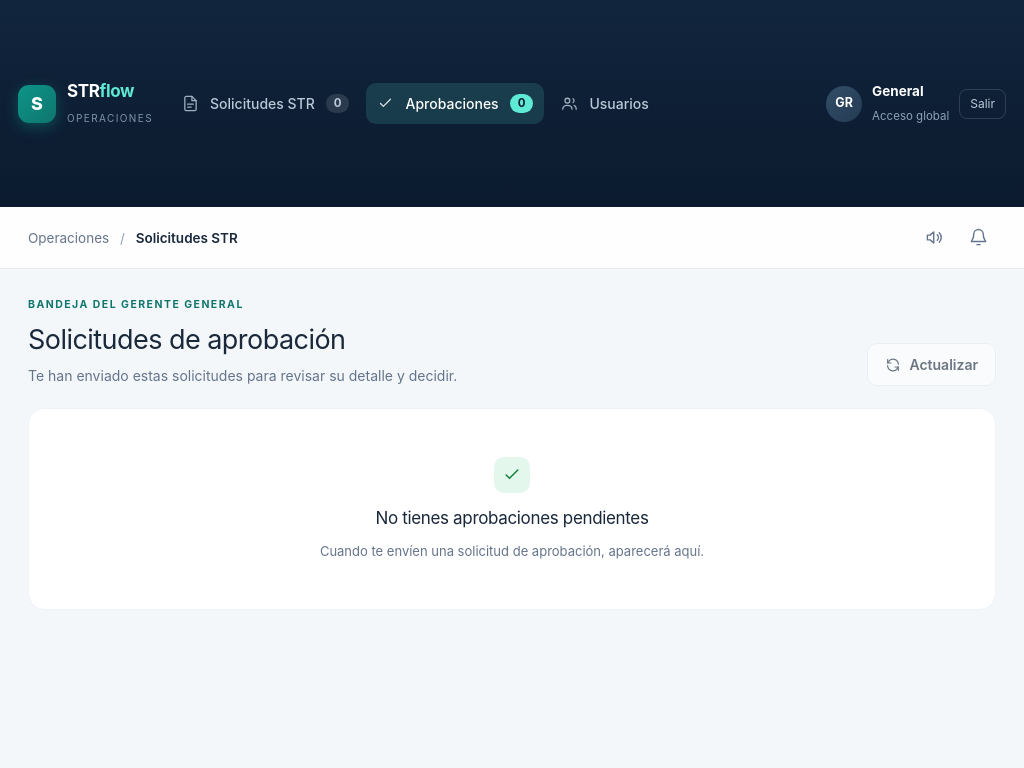
Test: aviso prioritario a pantalla completa › se cierra con Entendido y queda en el historial
Step 1. Click the link "Solicitudes STR 0" → coordinates (266, 104), box 182,94 -> 349,113
Wait 12200 ms
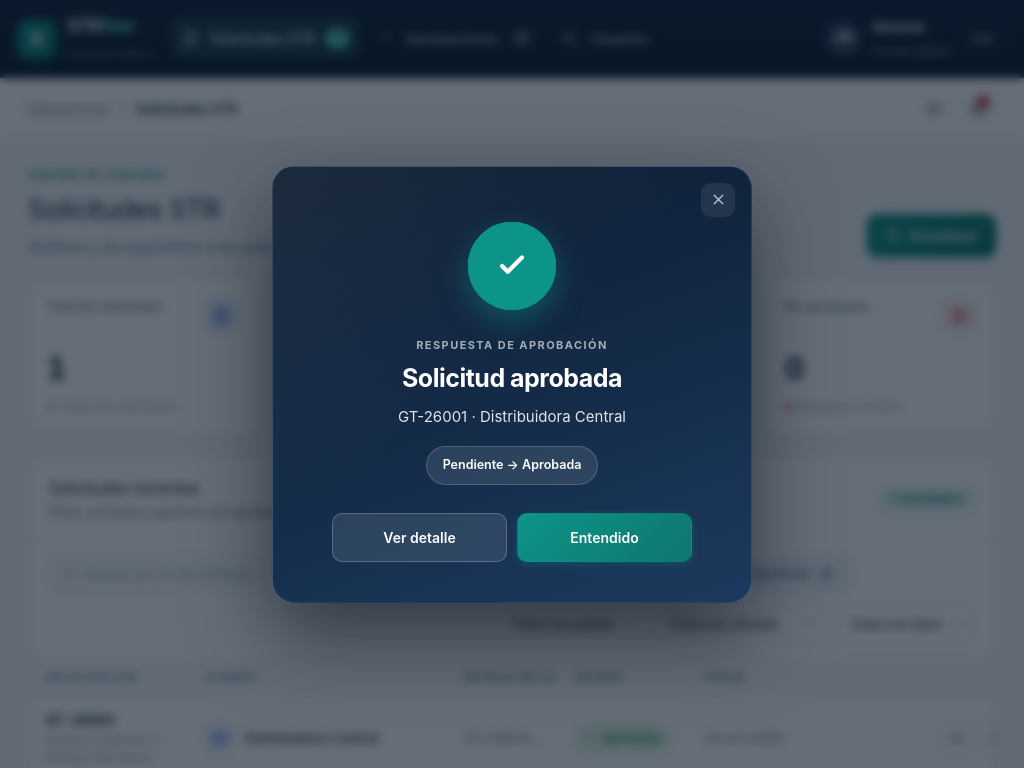
Step 2. Click the button "Entendido" → coordinates (604, 537), box 517,512 -> 692,562
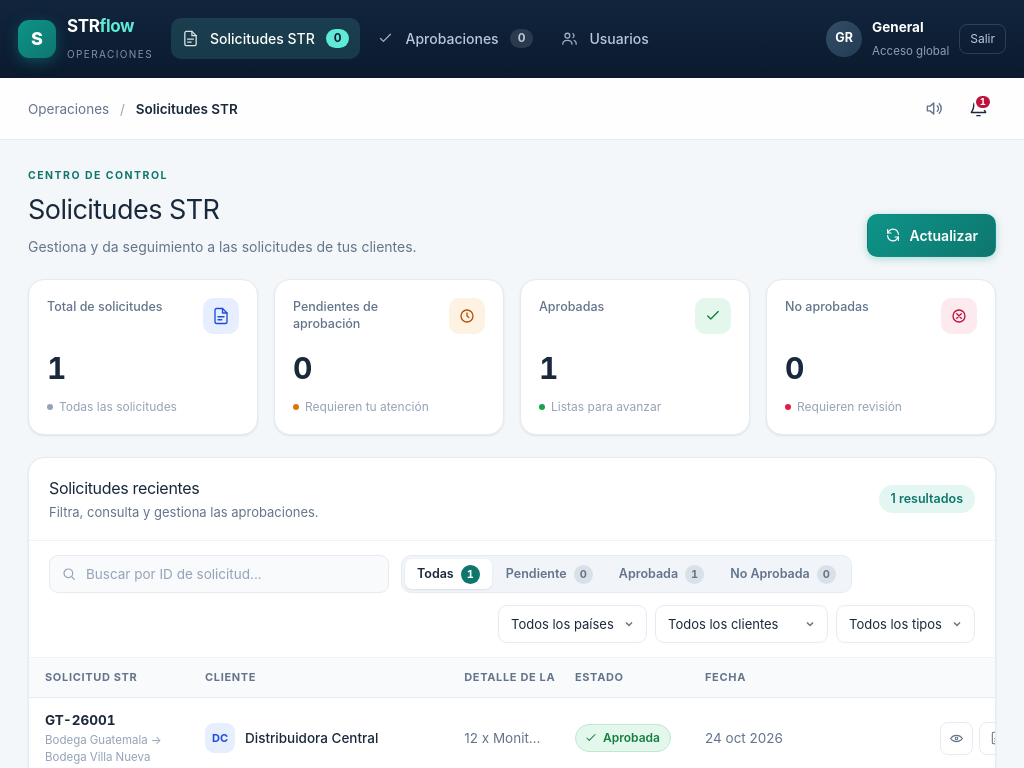
Check: the dialog is gone
Step 3. Click the button named "1 notificaciones sin leer" → coordinates (978, 108), box 960,90 -> 996,126
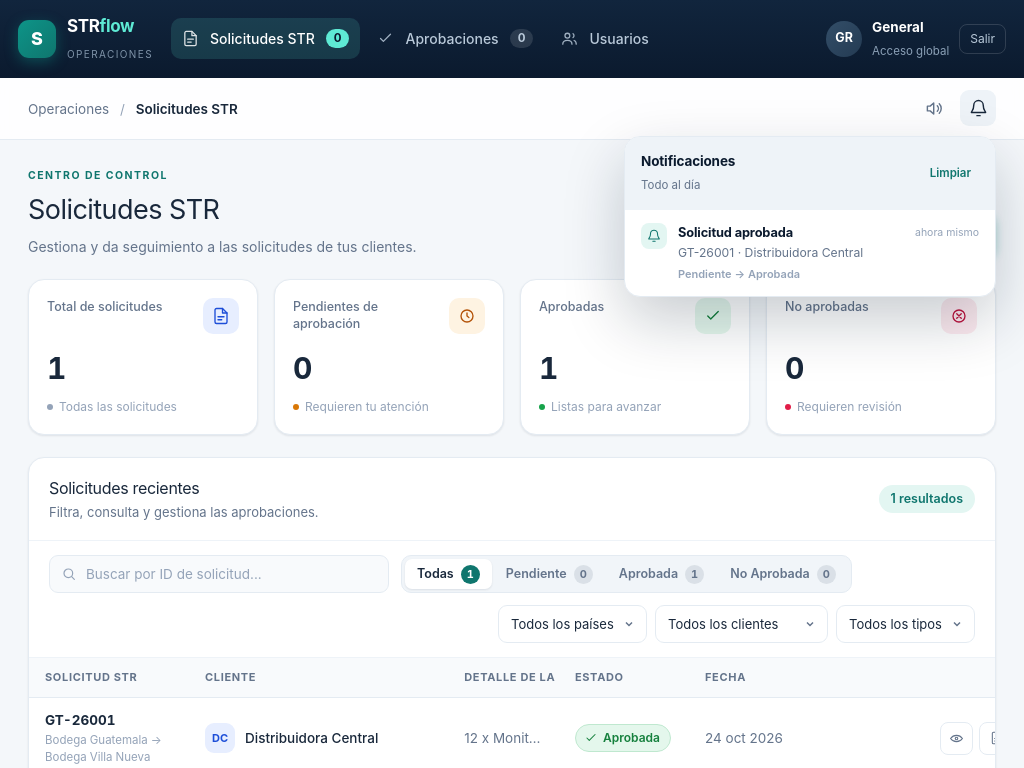
Check: the text "Solicitud aprobada" is shown, box 678,225 -> 793,240
